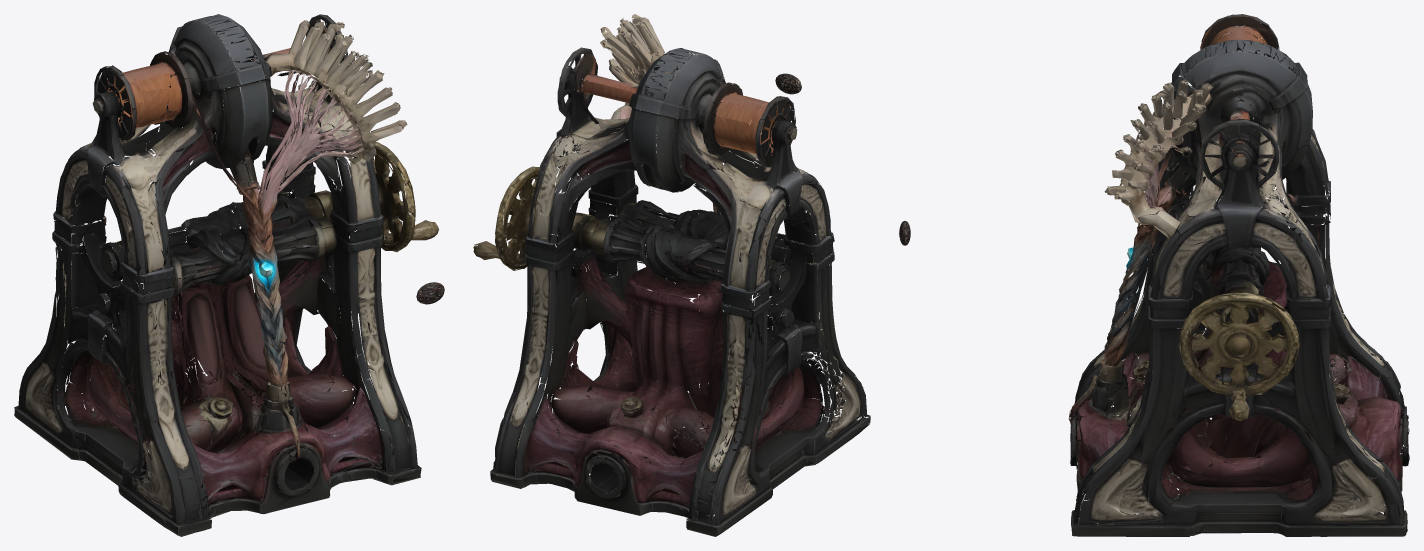
File: vey_shared_signal_braider.glb
3 renders of one model, left to right at view 1: azimuth 30°, elevation 25°; view 2: azimuth 150°, elevation 25°; view 3: azimuth 270°, elevation 25°, orthographic. The views are drawn at different scales.
Visible parts, largest first — view 1: node_0; view 2: node_0; view 3: node_0.
Boxes of the visible parts, <box> form: node_0: <box>14,14,438,536</box>; node_0: <box>473,14,870,536</box>; node_0: <box>1068,14,1409,536</box>.
Bounding box in the file's own units: 0.6882 × 0.8155 × 0.8707.
1 material, 1 textured.
